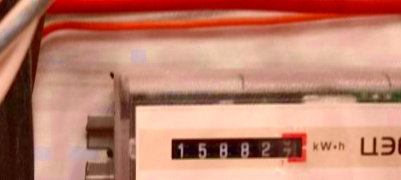1: (177, 140, 186, 156)
2: (261, 138, 271, 155)
5: (198, 140, 208, 156)
7: (283, 145, 292, 156)
8: (240, 139, 250, 156), (219, 141, 229, 157)
screen: (165, 127, 313, 167)
